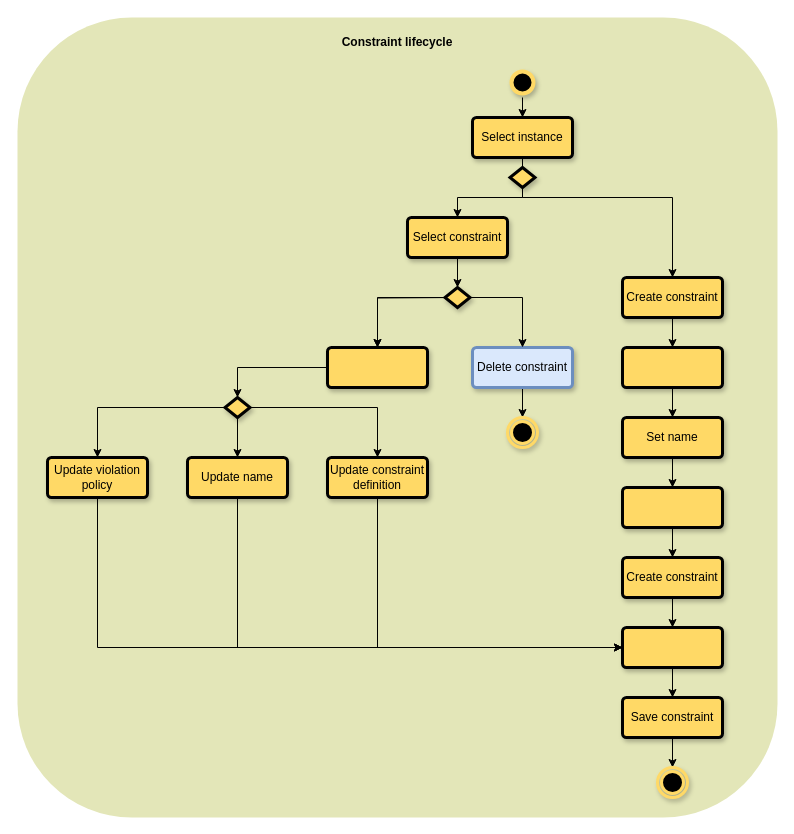
The diagram is 794 pixels wide and 834 high, and some of its shapes have lost their labels. Here are the shapes that lost their labels. From the top down, the centre of each, then its label:
the point at 378,369: Update constraint
the point at 673,369: Set UUID
the point at 673,509: Set constraint violation policy
the point at 673,649: Validate syntax
